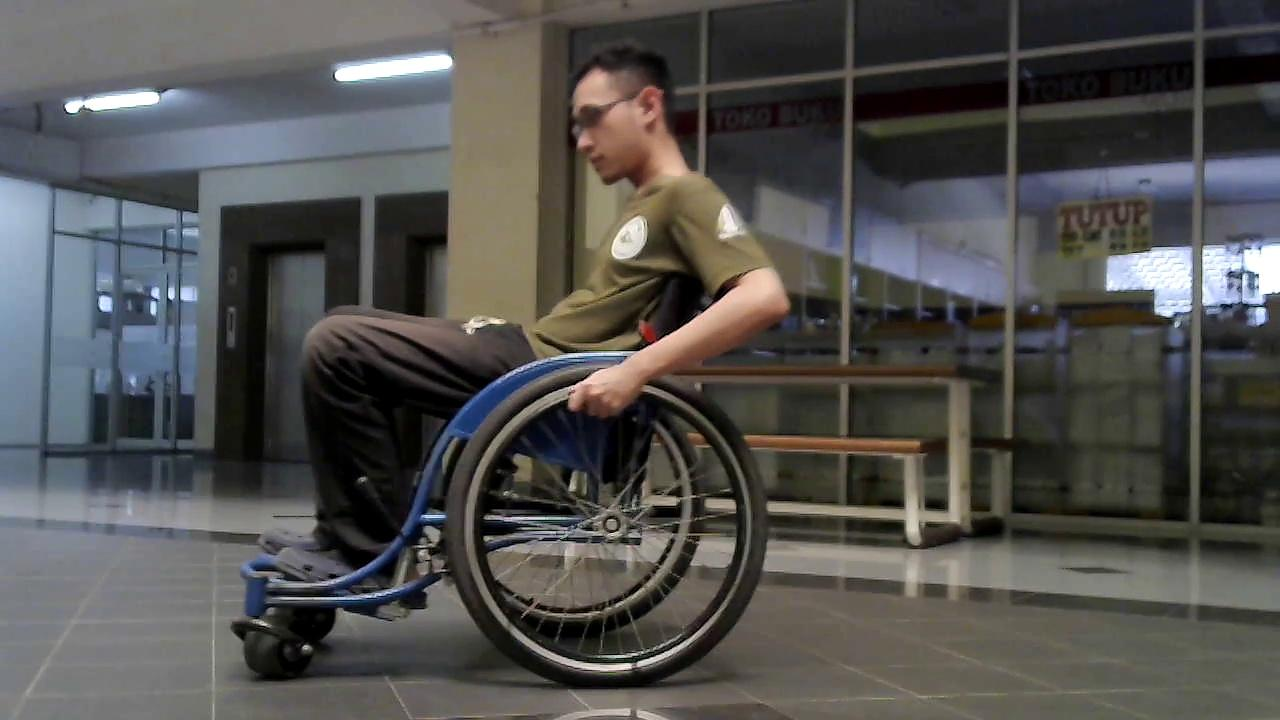person: (239, 41, 792, 596)
wheelchair: (218, 264, 801, 703)
